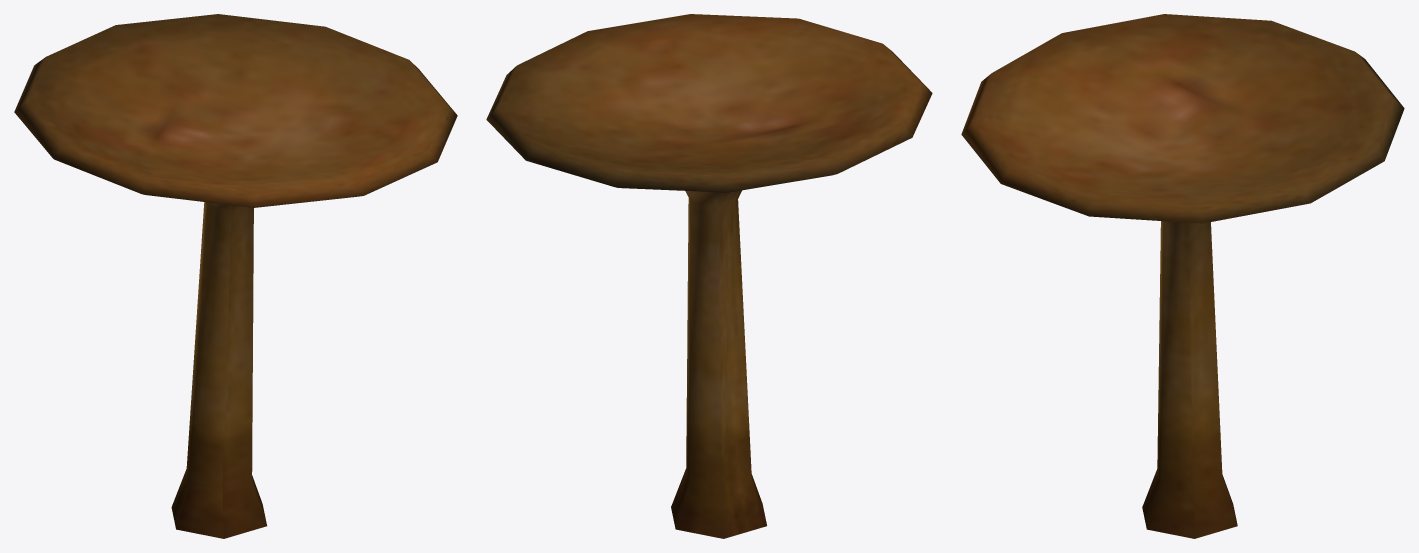
The model's file is mushroom_n_3.obj.
The picture shows the model from 3 angles, left to right: view 1: azimuth 30°, elevation 25°; view 2: azimuth 150°, elevation 25°; view 3: azimuth 270°, elevation 25°; orthographic projection.
Visible parts, largest first — view 1: mushroom_n_3; view 2: mushroom_n_3; view 3: mushroom_n_3.
Boxes of the visible parts, x1,y1,x2,y2 form: mushroom_n_3: [14, 14, 457, 538]; mushroom_n_3: [486, 14, 932, 538]; mushroom_n_3: [961, 14, 1404, 538].
Size of the model in its own units: 0.1384 by 0.1455 by 0.1385.
